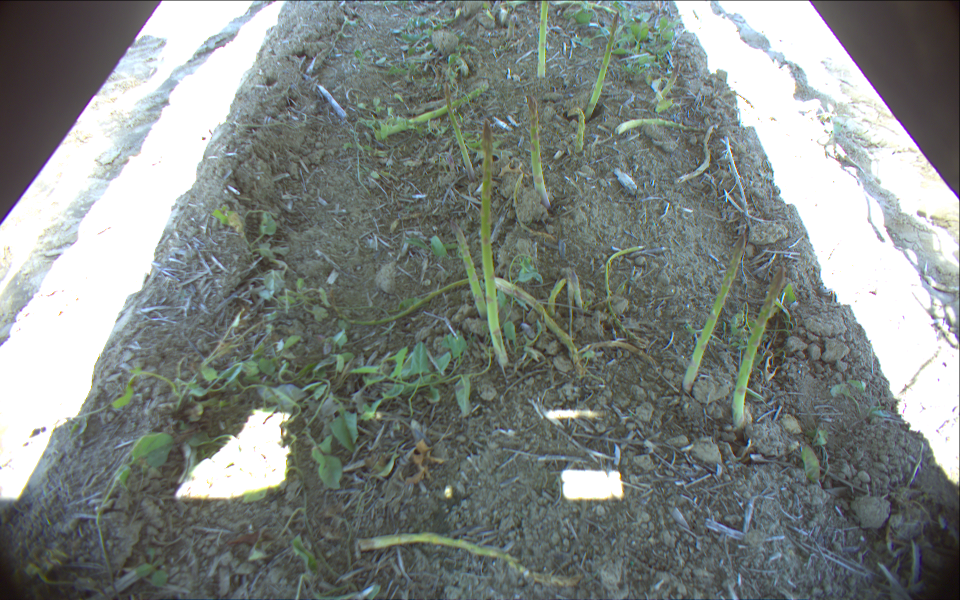aspa: (677, 226, 751, 396), (728, 264, 787, 433), (477, 120, 510, 366), (583, 11, 621, 120), (452, 220, 490, 319), (442, 84, 479, 180), (523, 94, 553, 208), (535, 1, 551, 80)
